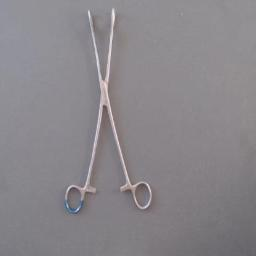Sponge Forceps: (61, 1, 157, 219)
